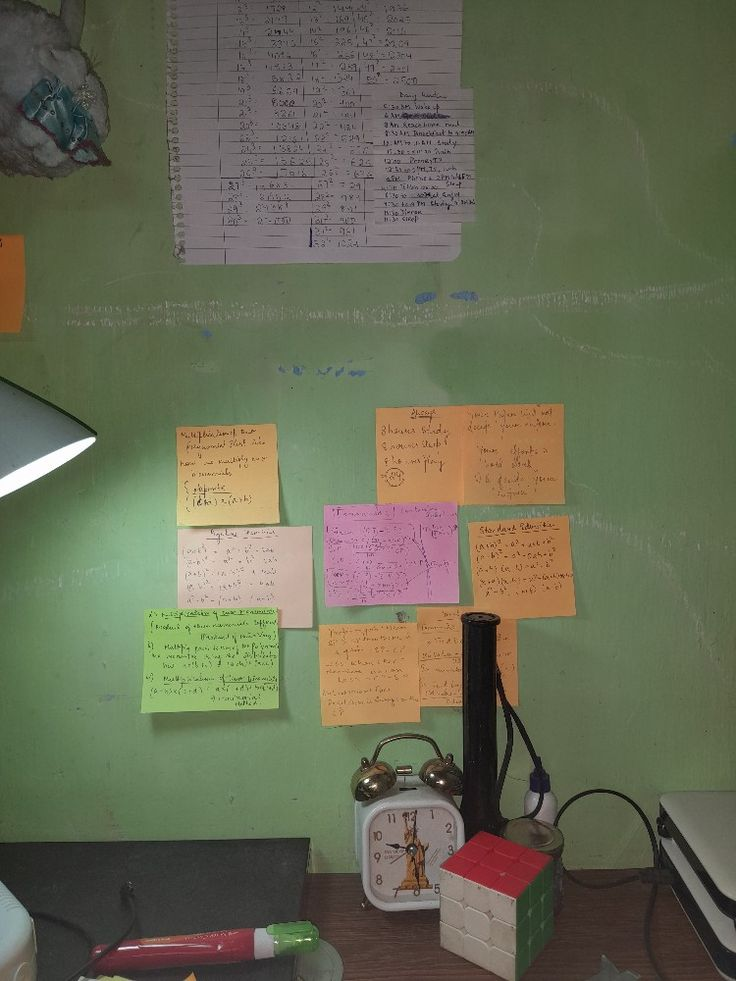not a gesture sign: (126, 355, 681, 976)
